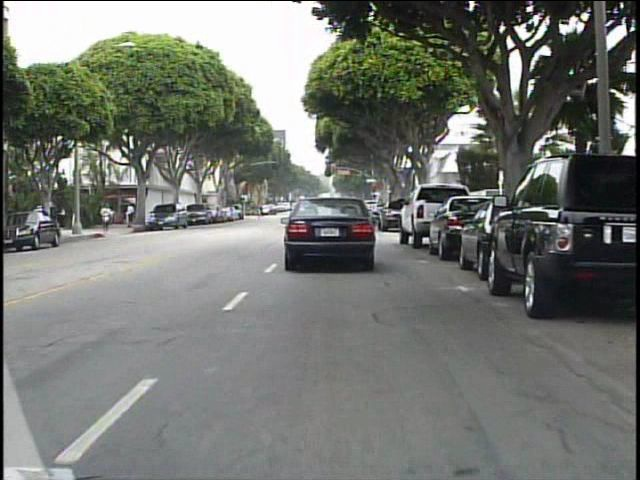person: (99, 199, 116, 236), (124, 198, 139, 231), (258, 200, 270, 221)
